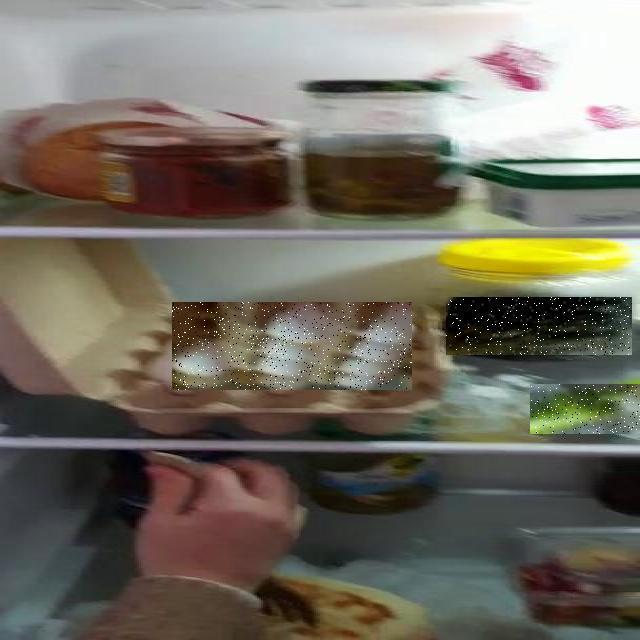Chillies: (530, 384, 640, 434)
Eggs: (172, 302, 412, 390)
Olives: (446, 297, 632, 355)
